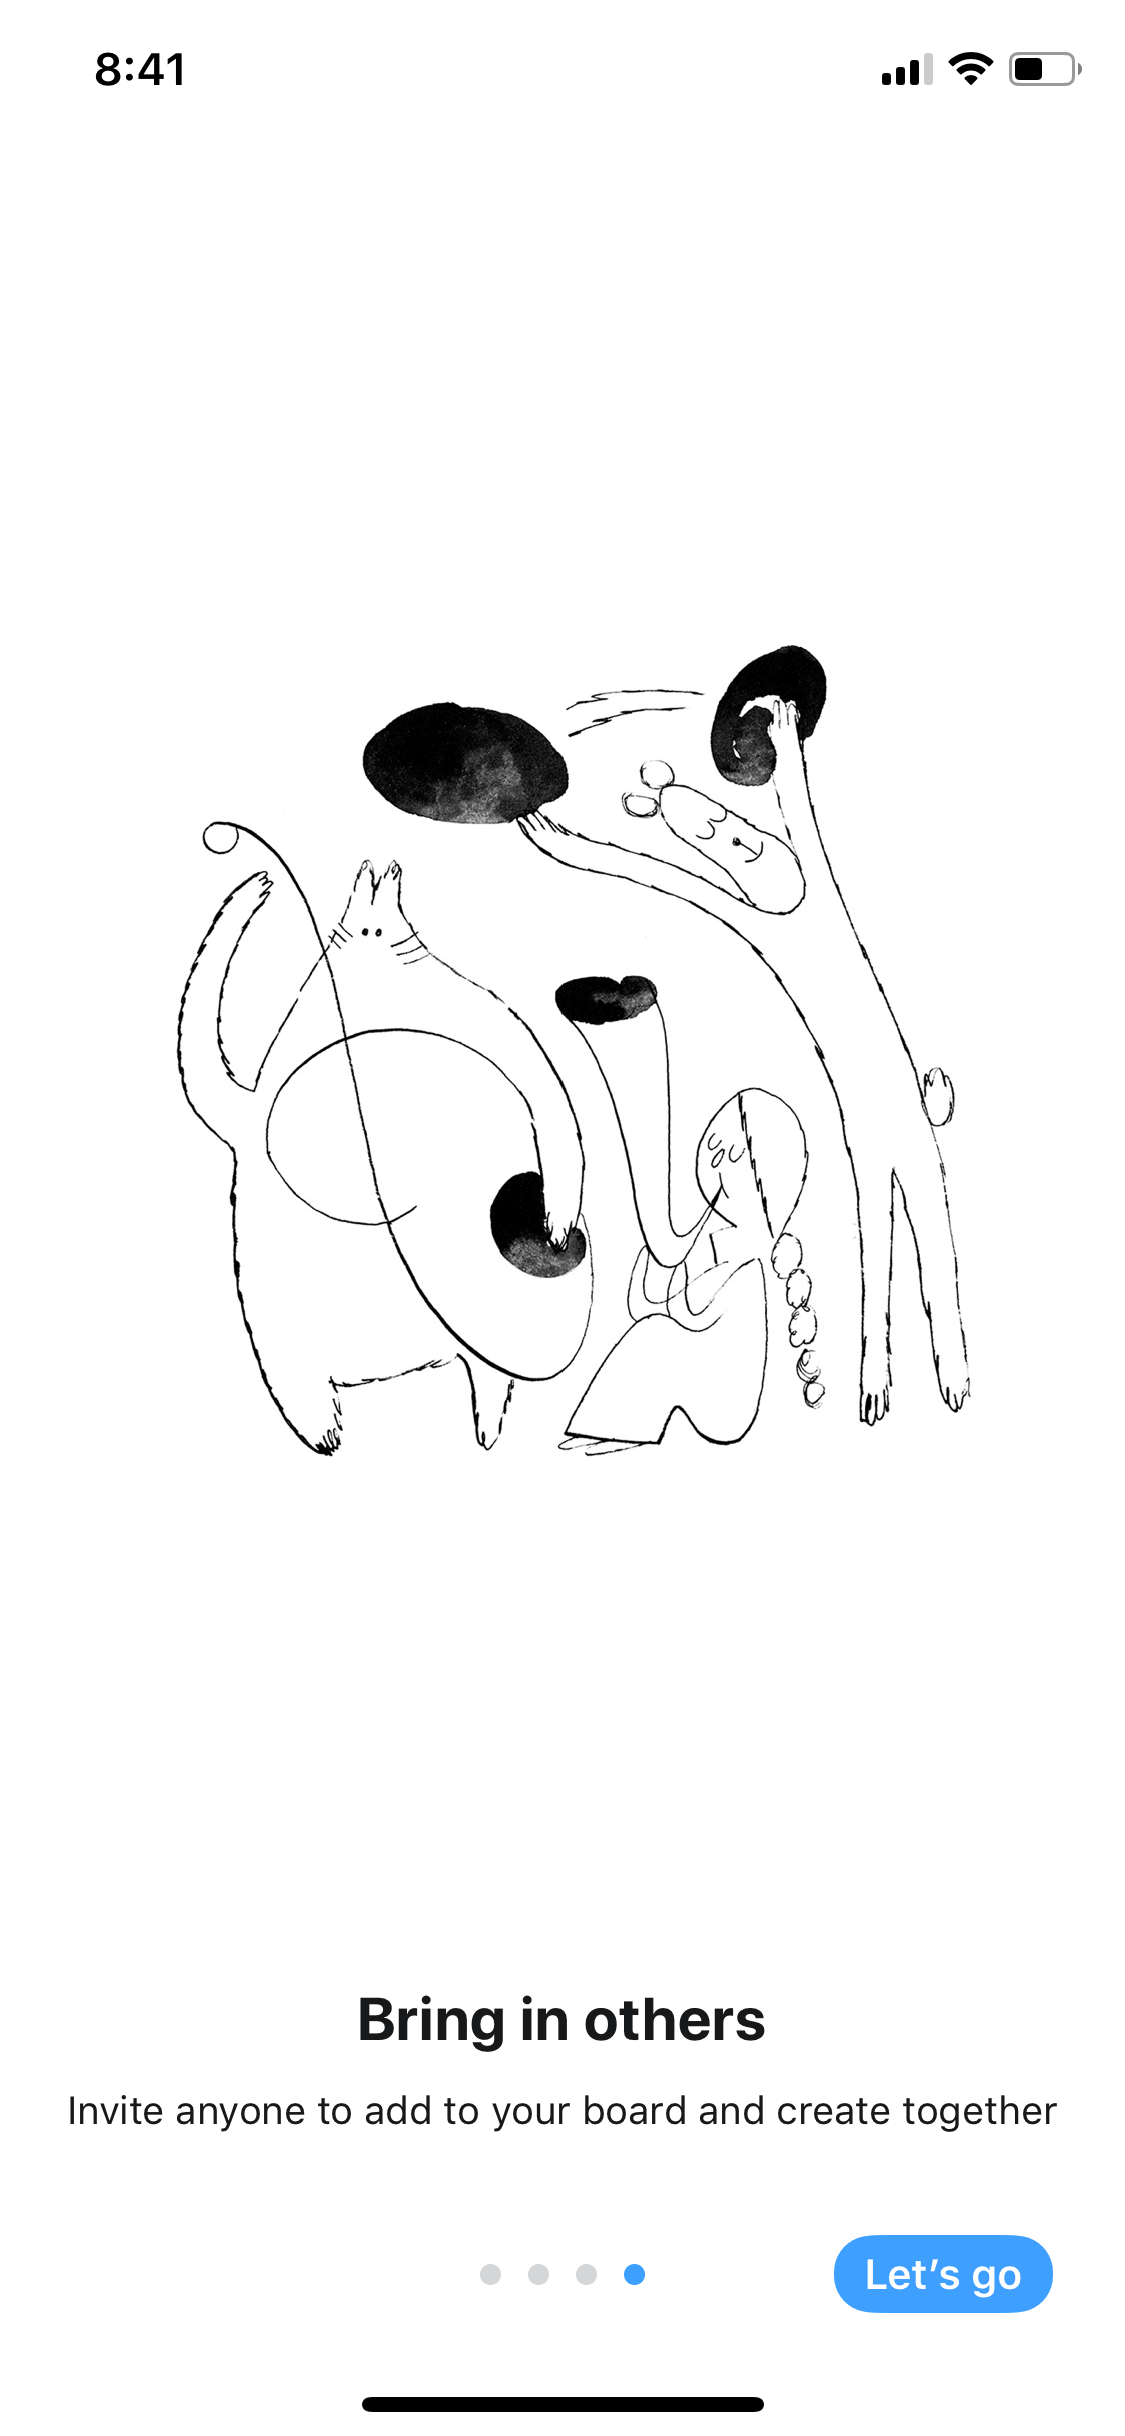Buttons: (819, 2211, 1061, 2330)
Page Controls: (427, 2205, 685, 2330)
